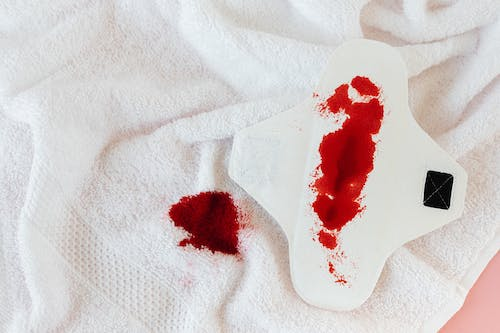blood: (310, 75, 386, 288), (167, 187, 258, 263)
